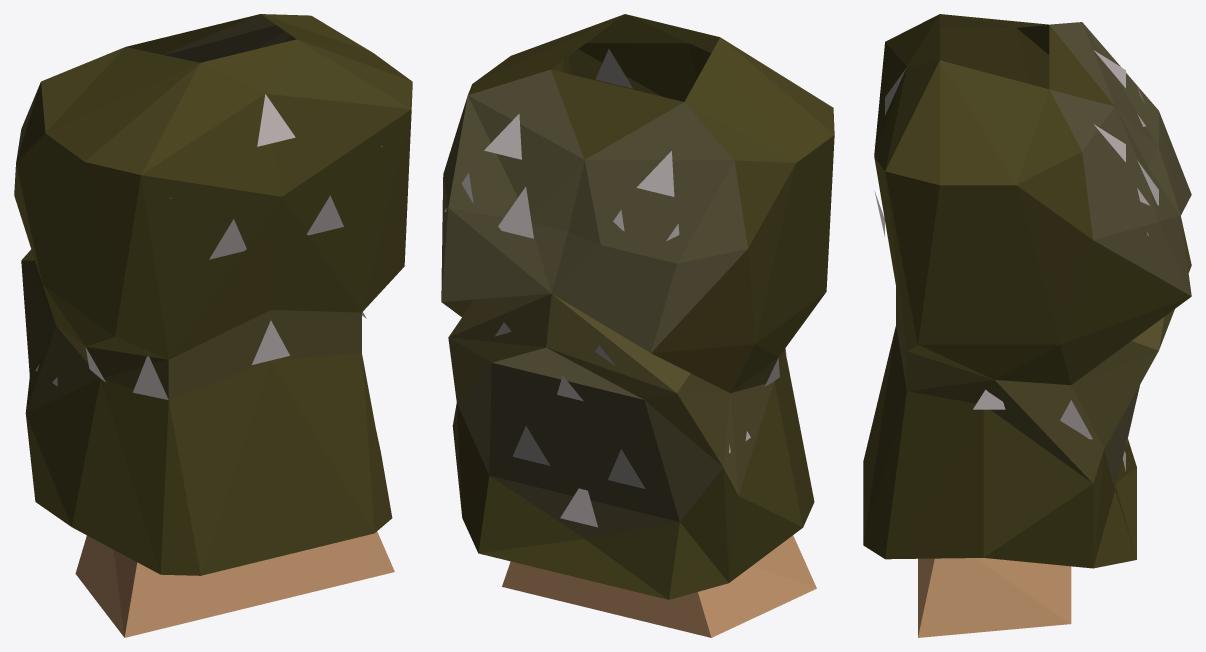
File: itm_model0_studded_body.obj
The picture shows the model from 3 angles, left to right: view 1: azimuth 30°, elevation 25°; view 2: azimuth 150°, elevation 25°; view 3: azimuth 270°, elevation 25°; orthographic projection.
Size of the model in its own units: 0.2656 by 0.4219 by 0.2344.
